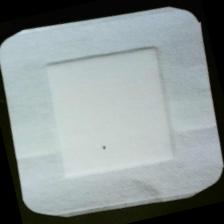Dressing: (1, 1, 224, 224)
F_Body: (96, 139, 113, 155)
